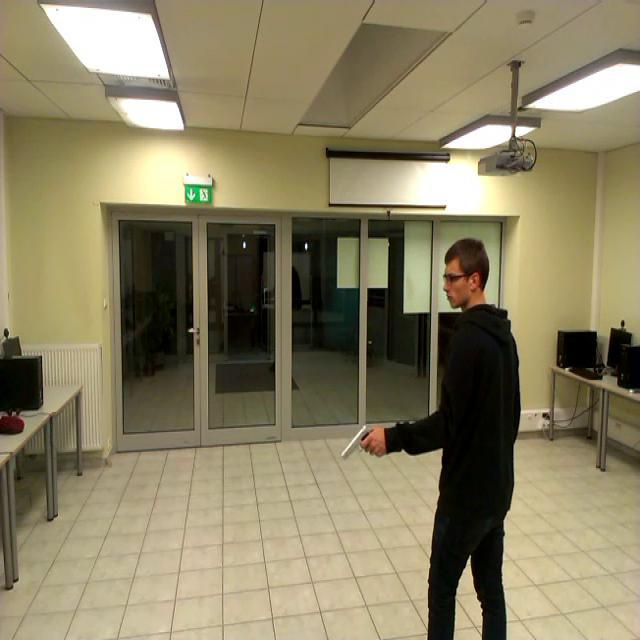Gun: (342, 424, 379, 459)
